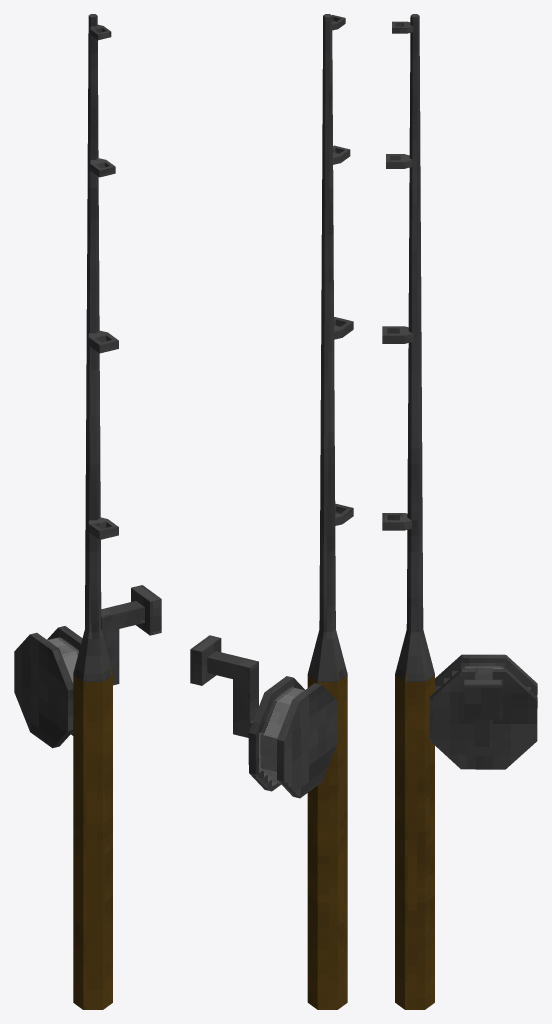
Rendered from FishingRod.glb.
3 renders of one model, left to right at view 1: azimuth 30°, elevation 25°; view 2: azimuth 150°, elevation 25°; view 3: azimuth 270°, elevation 25°, orthographic.
Visible parts, largest first — view 1: FishingRod; view 2: FishingRod; view 3: FishingRod.
Boxes of the visible parts, bbox=[...] form: FishingRod: bbox=[14, 14, 161, 1009]; FishingRod: bbox=[190, 14, 353, 1009]; FishingRod: bbox=[382, 14, 537, 1009].
Size of the model in its own units: 0.3897 by 3.31 by 0.4713.
1 material, 1 textured.
